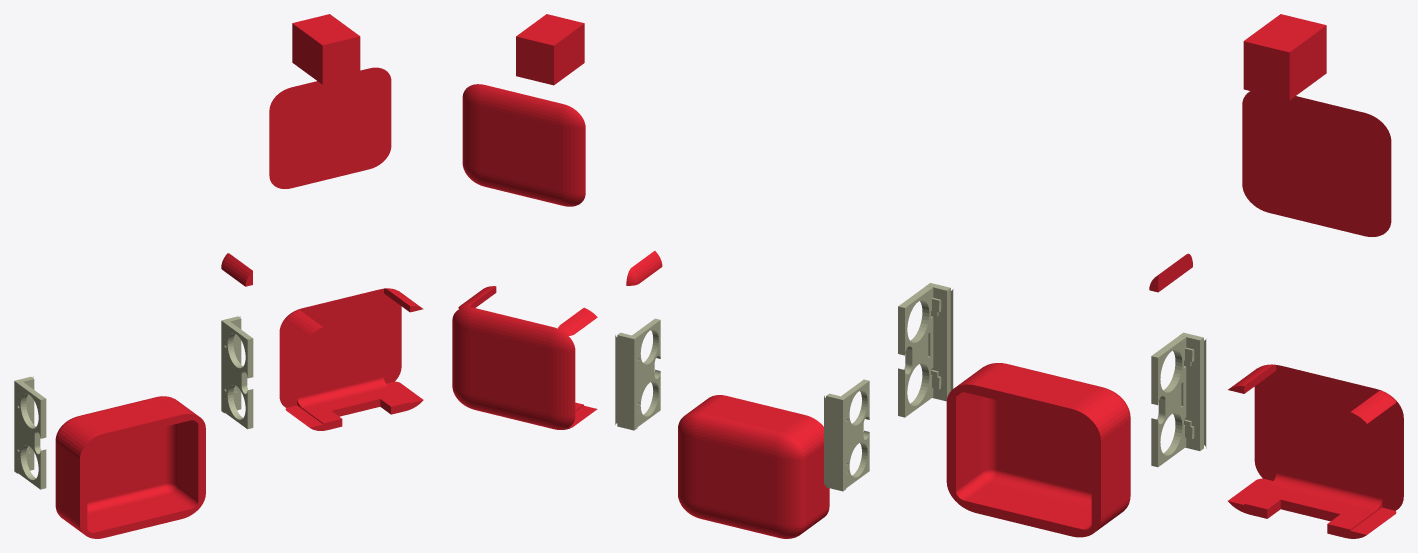
File: tinker.obj
3 views of the same model, side by side, from view 1: azimuth 30°, elevation 25°; view 2: azimuth 150°, elevation 25°; view 3: azimuth 330°, elevation 25° (orthographic). The views are drawn at different scales.
Parts seen in each view (by area): view 1: group_0_15277357, group_0_11909273; view 2: group_0_15277357, group_0_11909273; view 3: group_0_15277357, group_0_11909273.
Part boxes in pixels (<box>): group_0_15277357: <box>55,14,423,538</box>; group_0_11909273: <box>14,316,253,489</box>; group_0_15277357: <box>452,14,829,538</box>; group_0_11909273: <box>615,318,869,491</box>; group_0_15277357: <box>946,14,1403,538</box>; group_0_11909273: <box>898,283,1206,467</box>.
Size of the model in its own units: 206 by 223 by 28.17.
